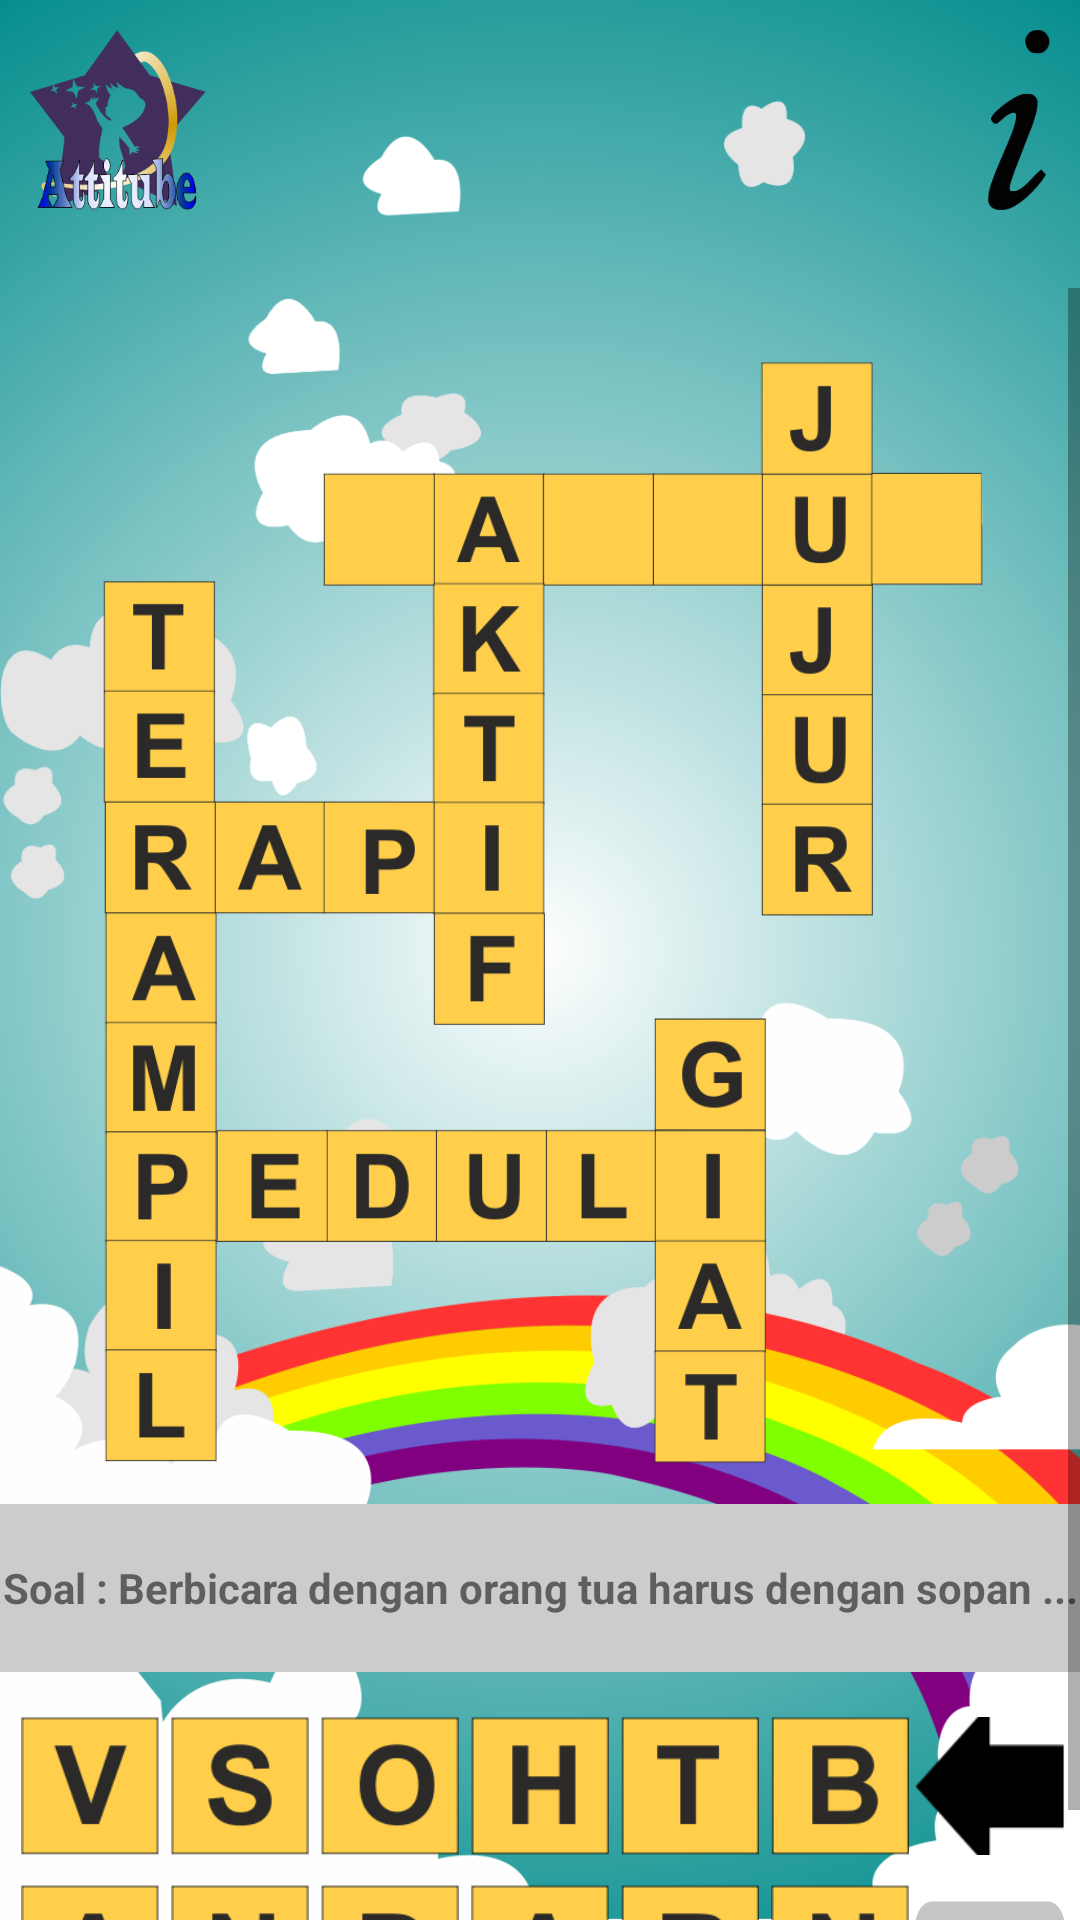

Where icons sit on this 1080w x 1920h app screen, as (x1, y1, x2, y2):
panah: (915, 1702, 1064, 1855)
